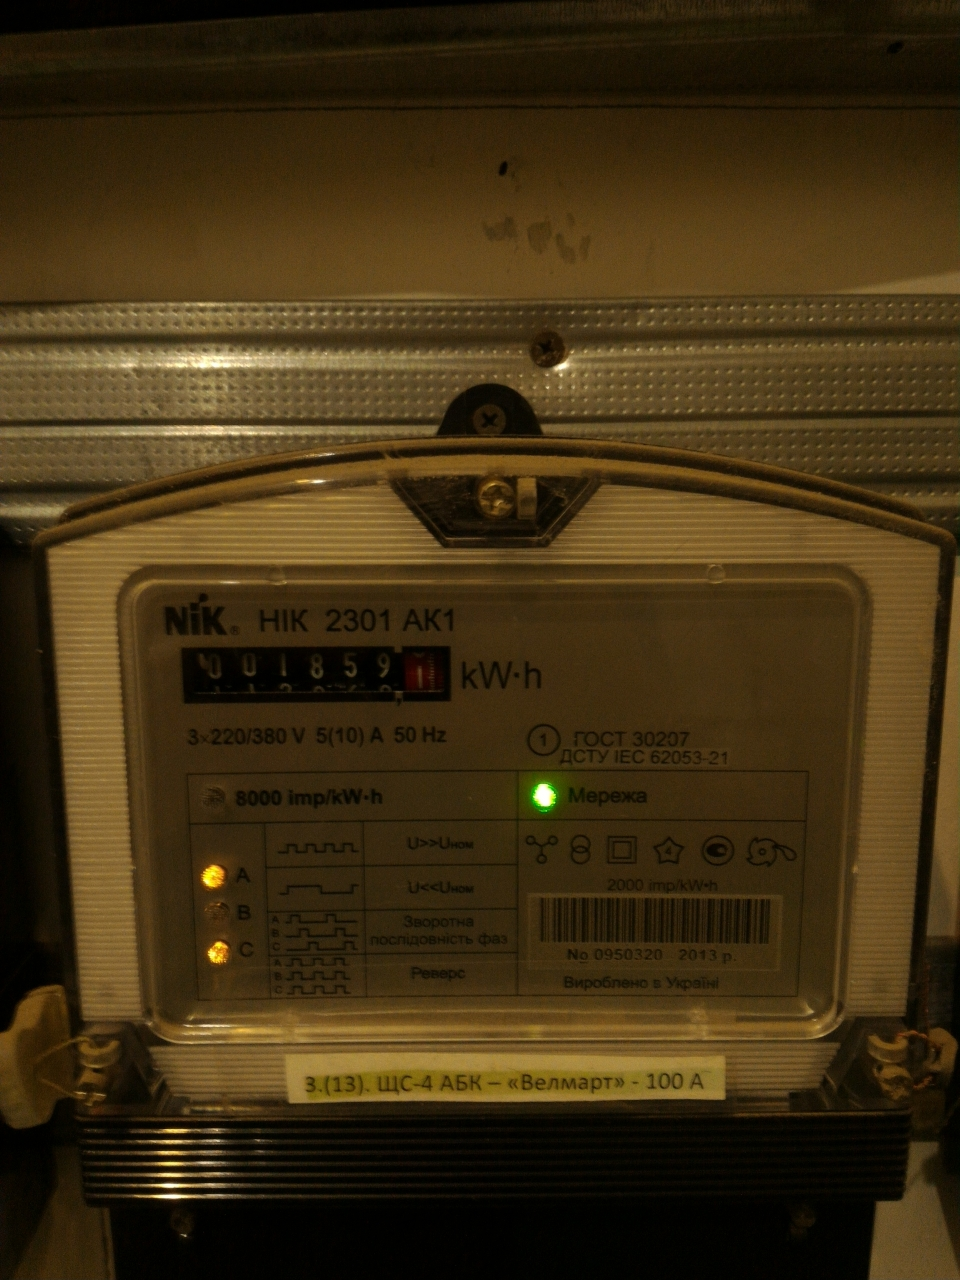0: (206, 651, 223, 680), (240, 651, 258, 678)
1: (278, 651, 290, 678), (414, 663, 427, 690)
5: (342, 650, 359, 678)
8: (308, 651, 326, 681)
9: (376, 650, 392, 680)
screen: (172, 634, 463, 712)
